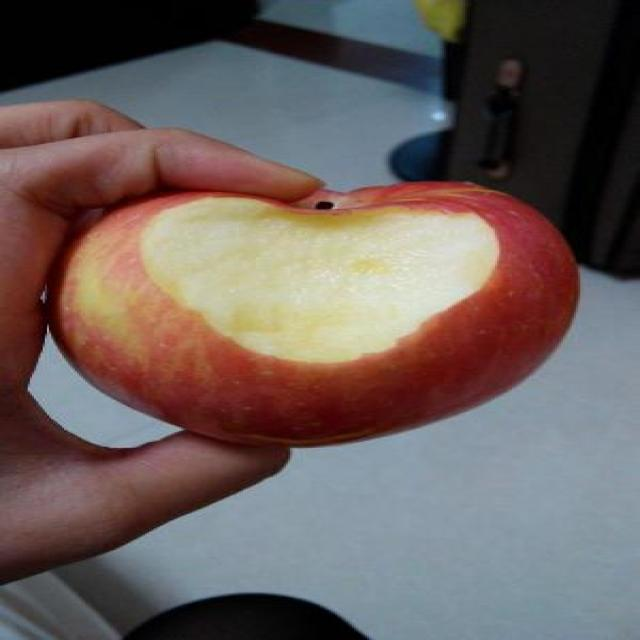Rotten: (43, 174, 597, 452)
